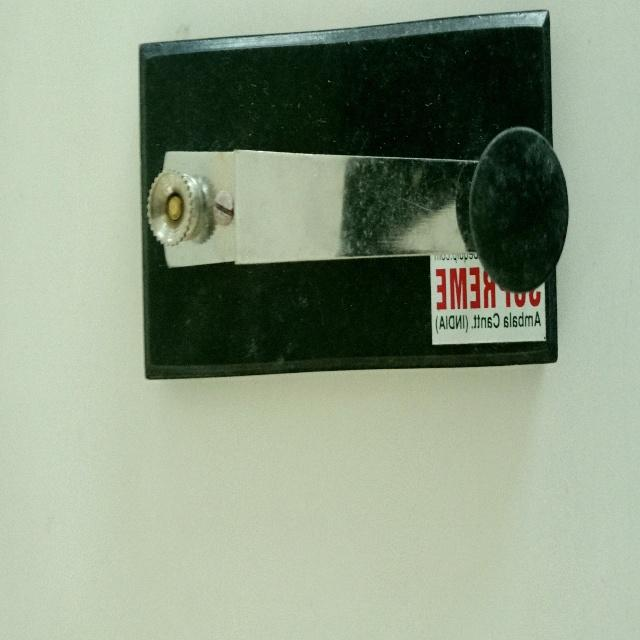Press Key: (125, 13, 572, 399)
